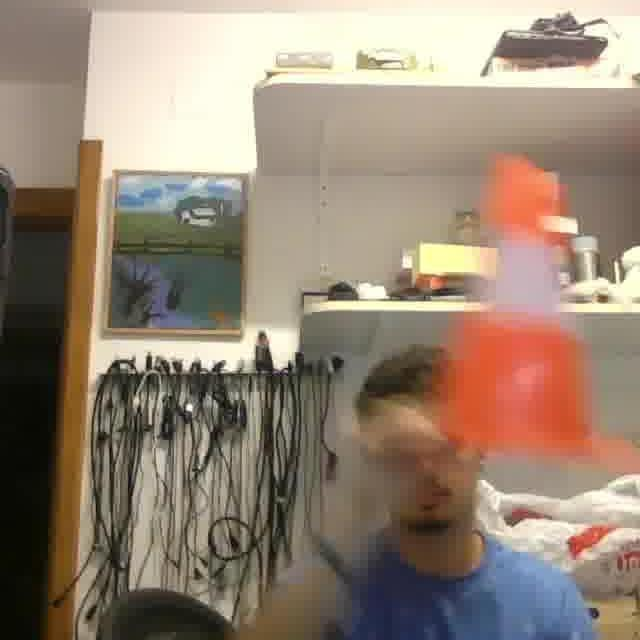NO-Hardhat: (352, 346, 450, 402)
NO-Mask: (401, 461, 482, 533)
NO-Safety Vest: (314, 535, 553, 640)
Person: (223, 350, 606, 640)
Safety Cone: (405, 142, 640, 478)
